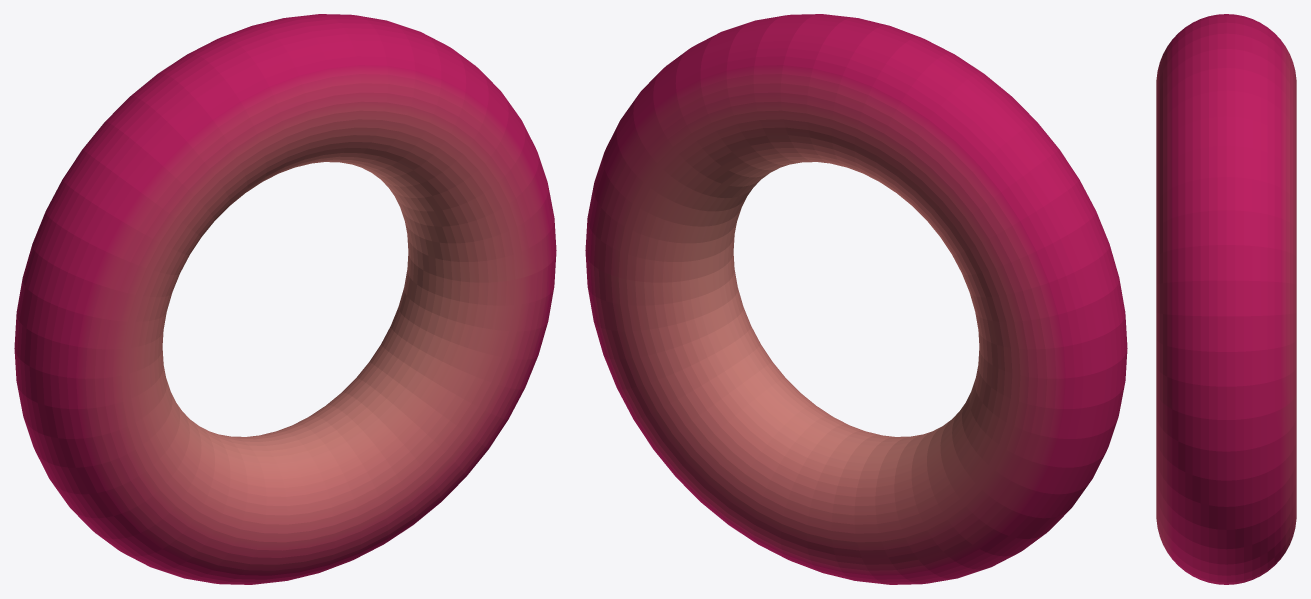
3 views of the same model, side by side, from view 1: azimuth 30°, elevation 25°; view 2: azimuth 150°, elevation 25°; view 3: azimuth 270°, elevation 25° (orthographic). The views are drawn at different scales.
Parts seen in each view (by area): view 1: world; view 2: world; view 3: world.
Boxes of the visible parts, x1=… form: world: x1=14, y1=14, x2=556, y2=584; world: x1=585, y1=14, x2=1127, y2=584; world: x1=1156, y1=14, x2=1296, y2=584.
Bounding box in the file's own units: 30.93 × 30.87 × 7.59.
